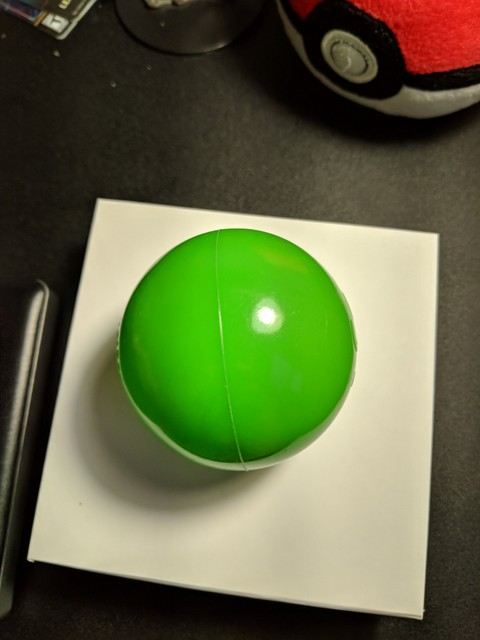Ball: (112, 227, 354, 467)
